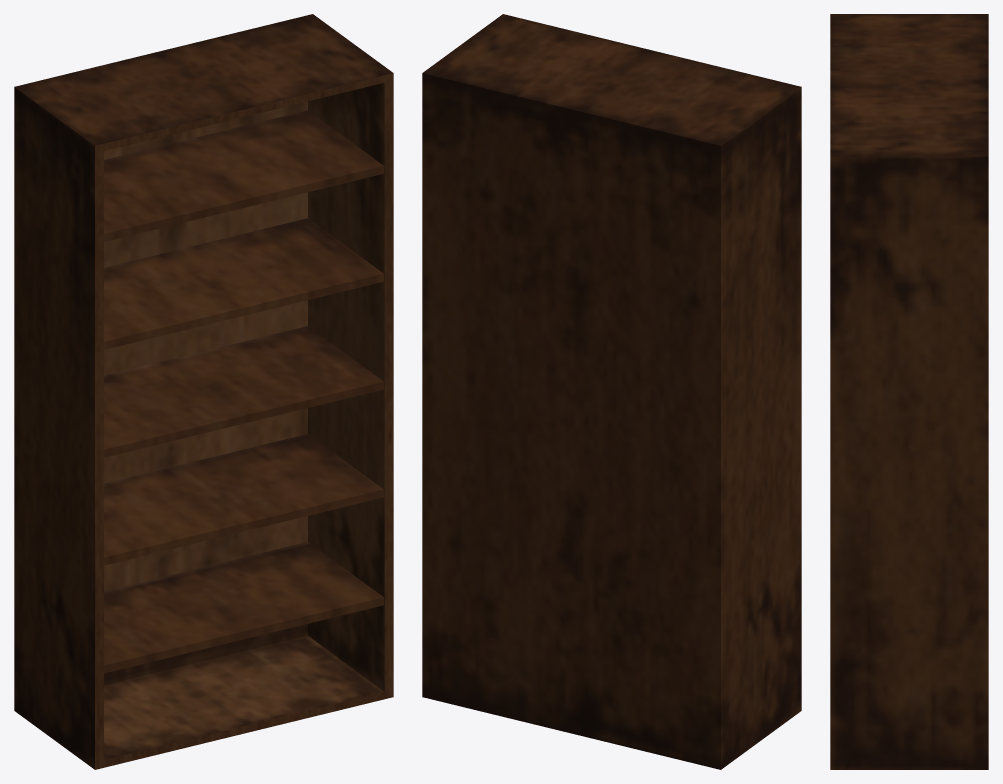
The model's file is prop_bookshelf.obj.
3 renders of one model, left to right at view 1: azimuth 30°, elevation 25°; view 2: azimuth 150°, elevation 25°; view 3: azimuth 270°, elevation 25°, orthographic.
Visible parts, largest first — view 1: Props_Bookshelf; view 2: Props_Bookshelf; view 3: Props_Bookshelf.
Part boxes in pixels (x1=…): Props_Bookshelf: x1=14, y1=14, x2=393, y2=769; Props_Bookshelf: x1=422, y1=14, x2=801, y2=769; Props_Bookshelf: x1=830, y1=14, x2=988, y2=769.
Size of the model in its own units: 1 by 2 by 0.4688.
1 material, 1 textured.
